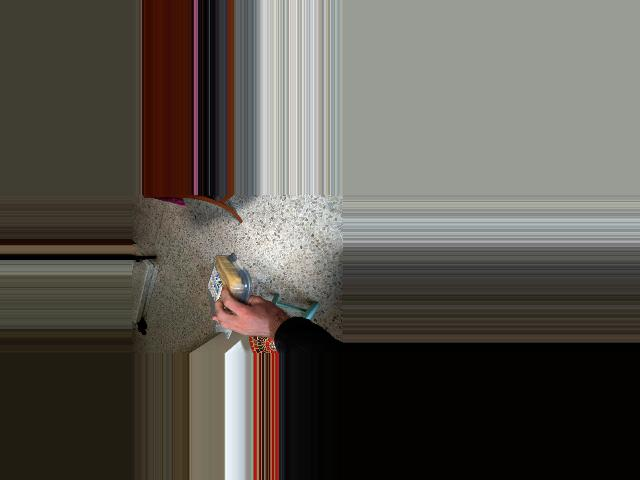cheese: (208, 253, 244, 327)
